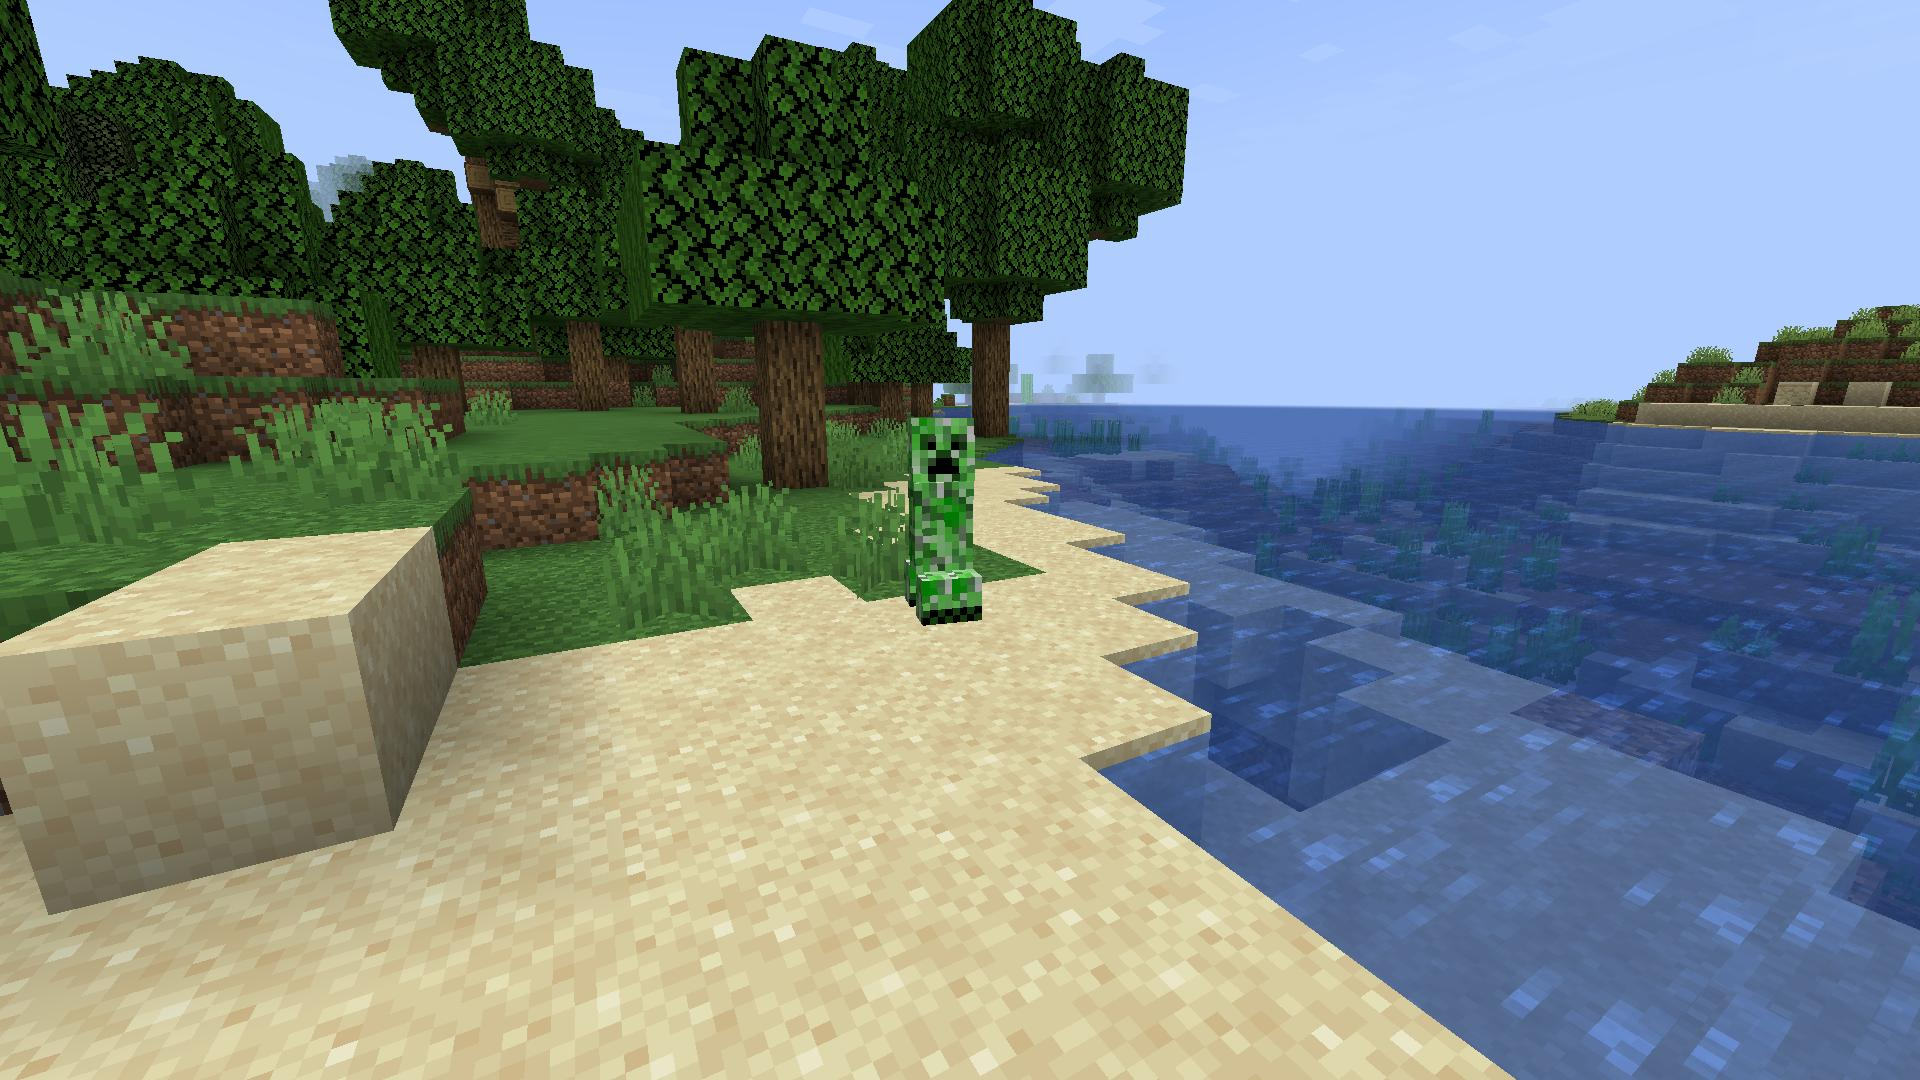creeper: (895, 407, 994, 633)
